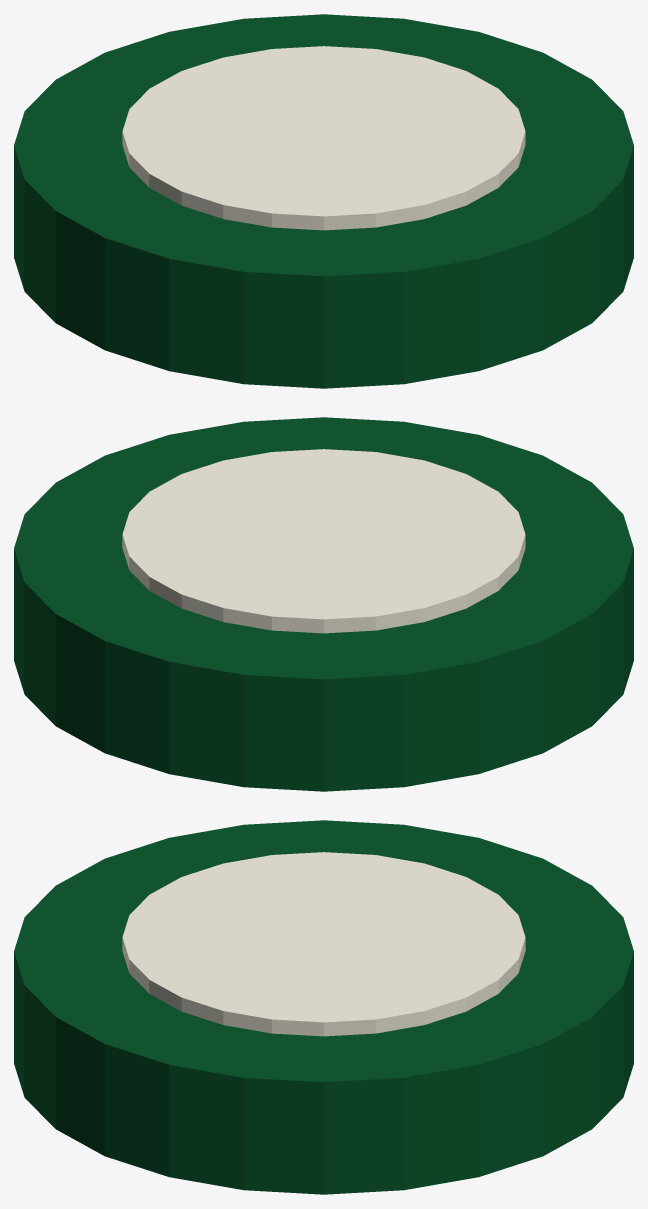
Rendered from Item_OR_Chip_33.glb.
3 renders of one model, top to bottom at view 1: azimuth 30°, elevation 25°; view 2: azimuth 150°, elevation 25°; view 3: azimuth 270°, elevation 25°, orthographic.
Parts seen in each view (by area): view 1: Item_OR_Chip_33; view 2: Item_OR_Chip_33; view 3: Item_OR_Chip_33.
Boxes of the visible parts, x1=… form: Item_OR_Chip_33: x1=14, y1=14, x2=633, y2=388; Item_OR_Chip_33: x1=14, y1=417, x2=633, y2=791; Item_OR_Chip_33: x1=14, y1=820, x2=633, y2=1194.
Bounding box in the file's own units: 0.04 × 0.009 × 0.04.
